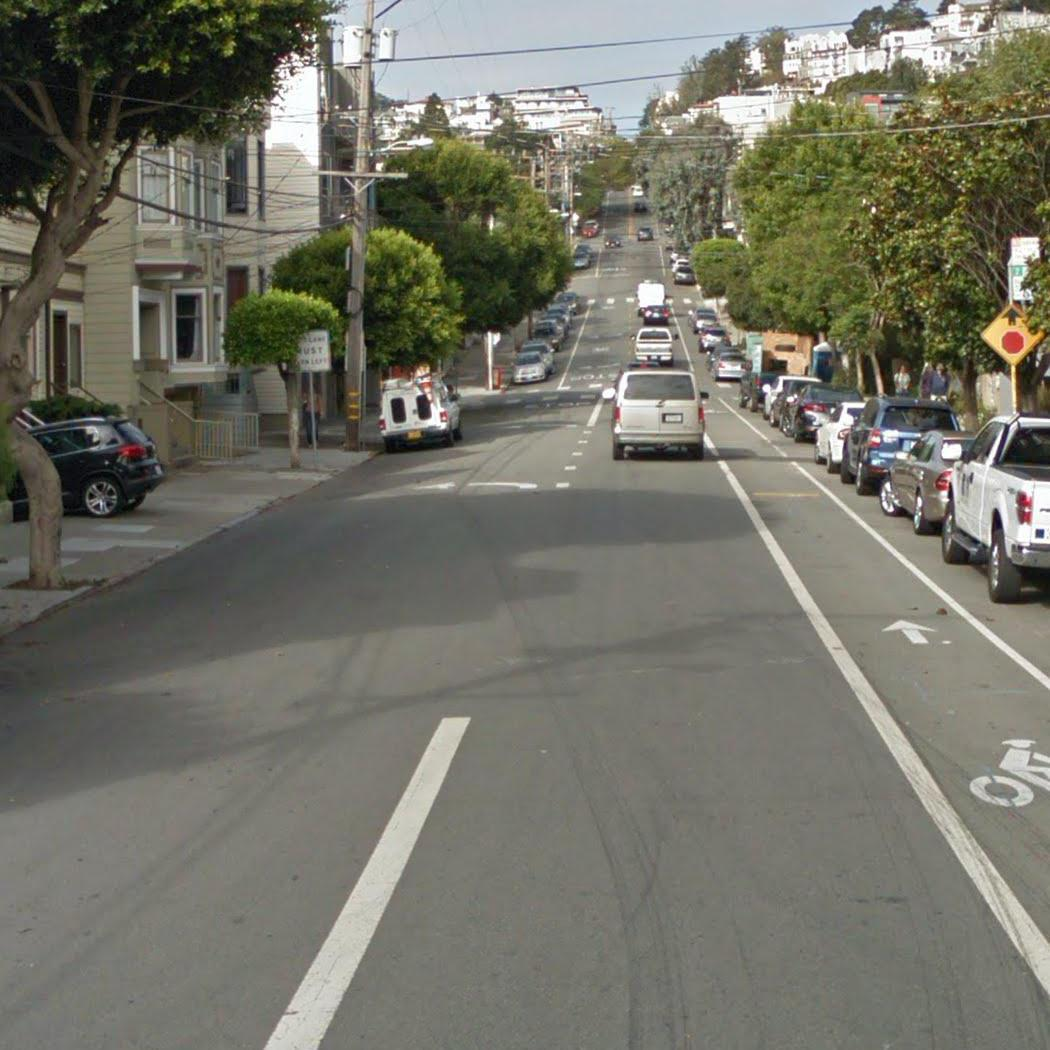2 Hour Parking: (1010, 266, 1044, 302)
